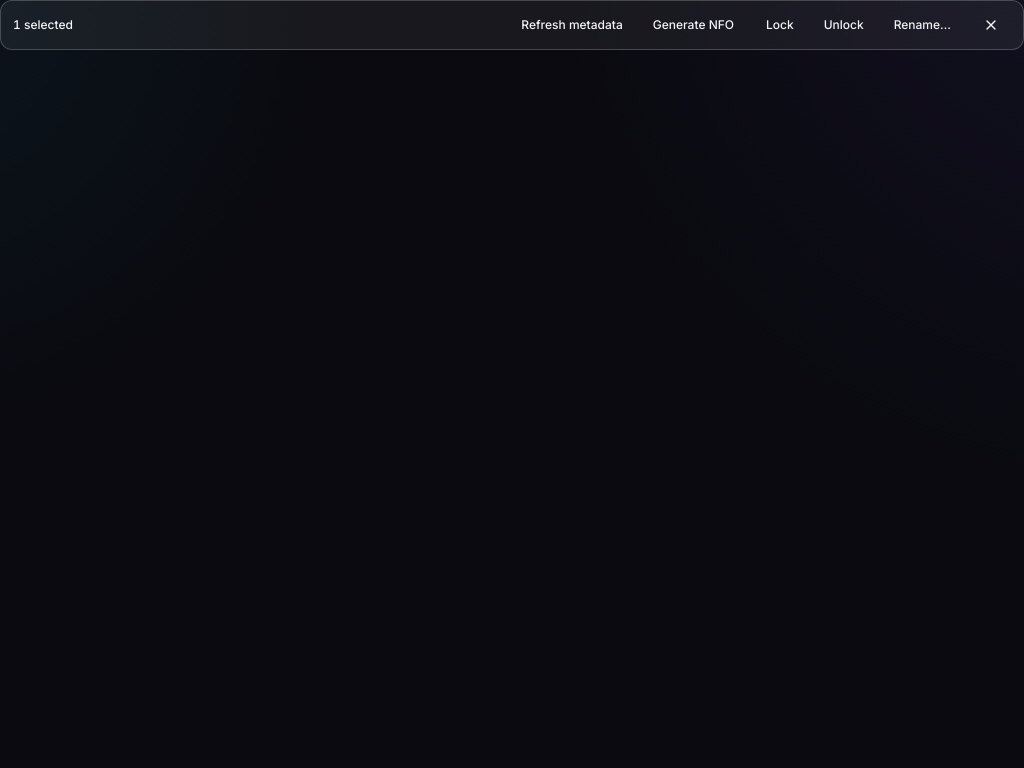
Test: ContextActionBar — what it refuses to render › opens rename from the bar, resolving the item the selection names
The width and height of the screenshot is (1024, 768).
Click the button "Rename…" at (922, 25), box x1=882 y1=9 x2=963 y2=41
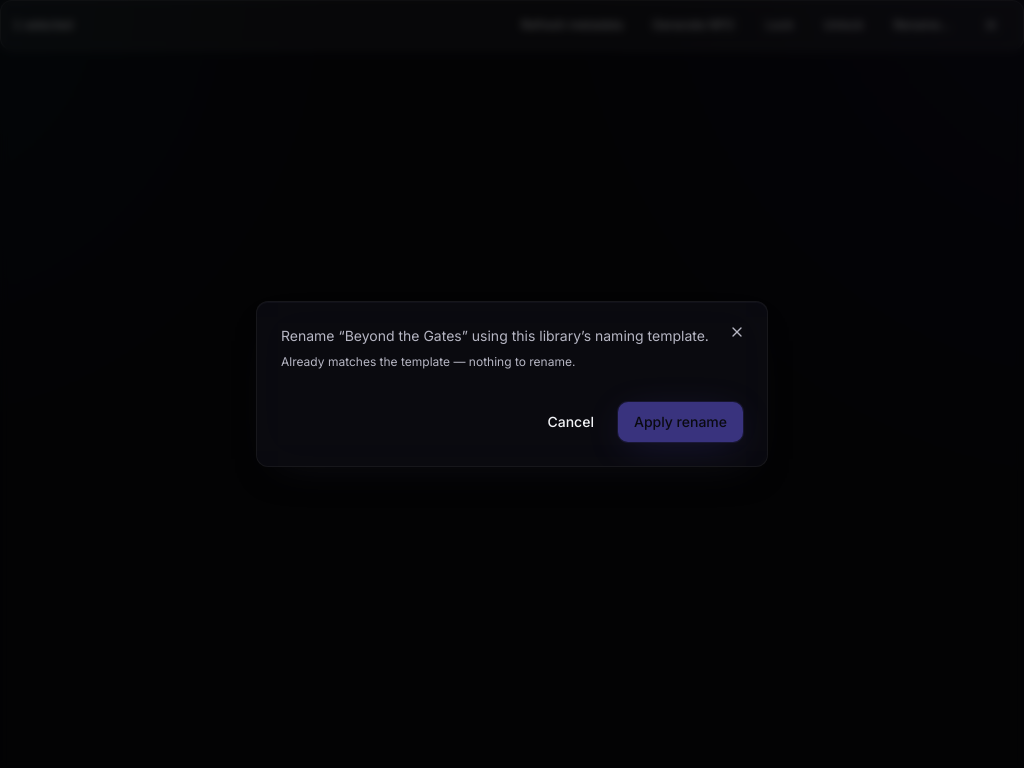
Check: the text "Beyond the Gates" is shown, box x1=281 y1=327 x2=709 y2=344
